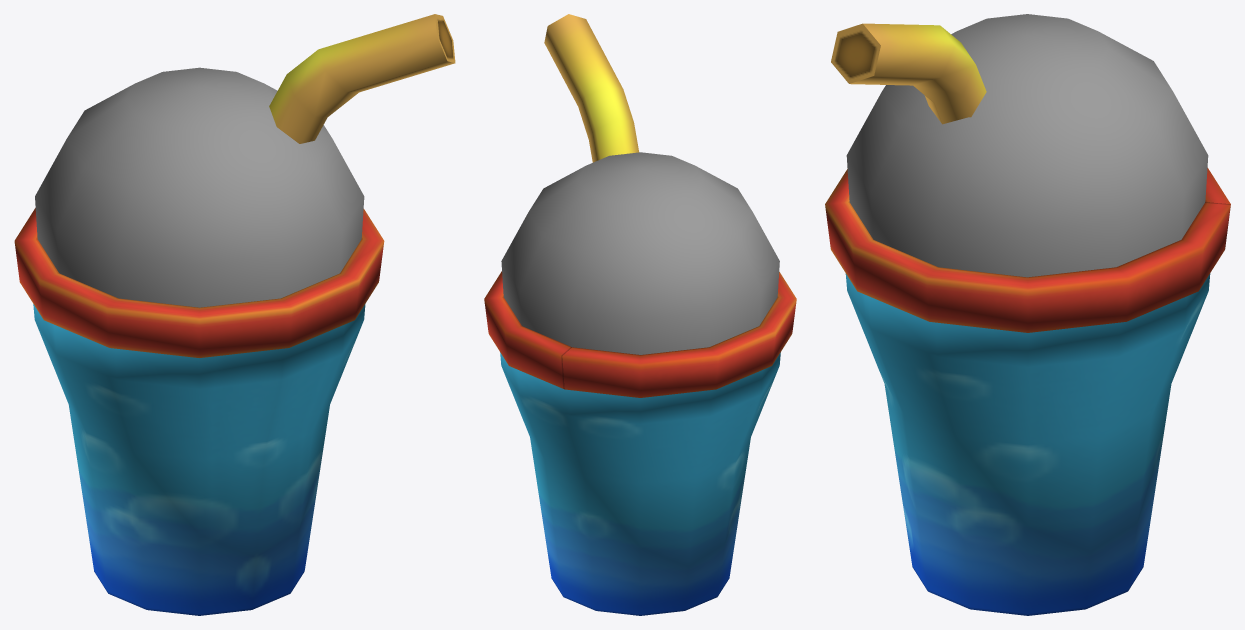
The model's file is DrinkJuice.FBX.
3 renders of one model, left to right at view 1: azimuth 30°, elevation 25°; view 2: azimuth 150°, elevation 25°; view 3: azimuth 270°, elevation 25°, orthographic. The views are drawn at different scales.
Parts seen in each view (by area): view 1: Coca, Lid, Straw; view 2: Coca, Lid, Straw; view 3: Coca, Lid, Straw.
Part boxes in pixels (<box>): Coca: <box>14,208,384,615</box>; Lid: <box>35,67,364,307</box>; Straw: <box>269,14,455,143</box>; Coca: <box>484,271,796,615</box>; Lid: <box>501,152,779,354</box>; Straw: <box>544,14,638,162</box>; Coca: <box>825,168,1230,615</box>; Lid: <box>846,14,1208,277</box>; Straw: <box>831,23,986,124</box>.
Bounding box in the file's own units: 40.59 × 64.68 × 37.79.
